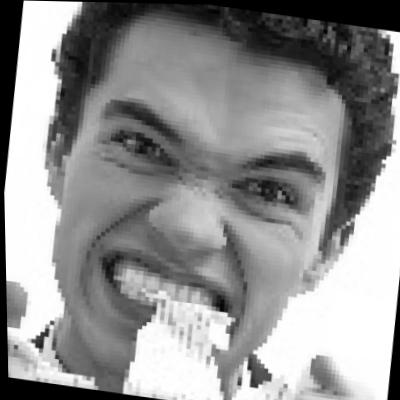angry: (42, 1, 349, 367)
